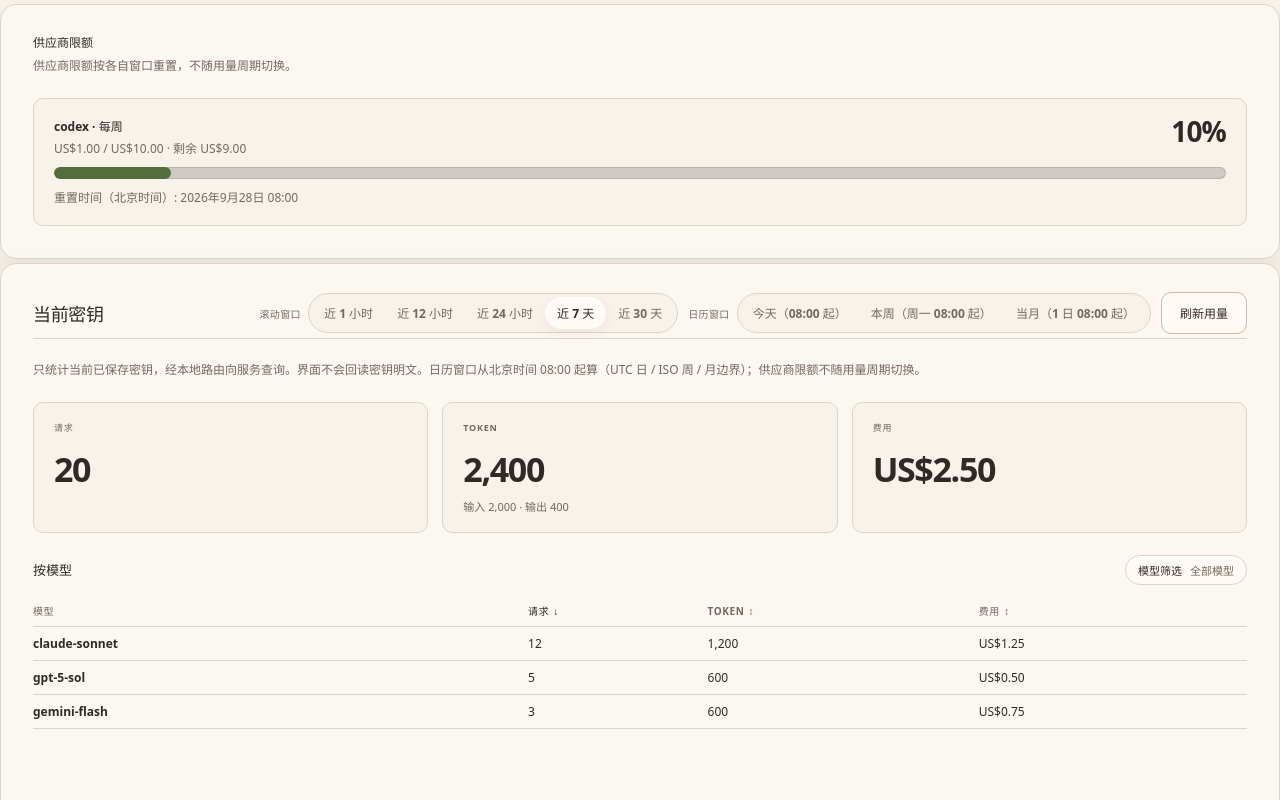
Scenario: UsagePage › hides retained provider limits when a subsequent usage request fails
The width and height of the screenshot is (1280, 800).
Expected: the text "codex · 每周" is shown, [54, 118, 123, 135]
Click the tab "近 1 小时": [349, 313] box [312, 297, 385, 329]
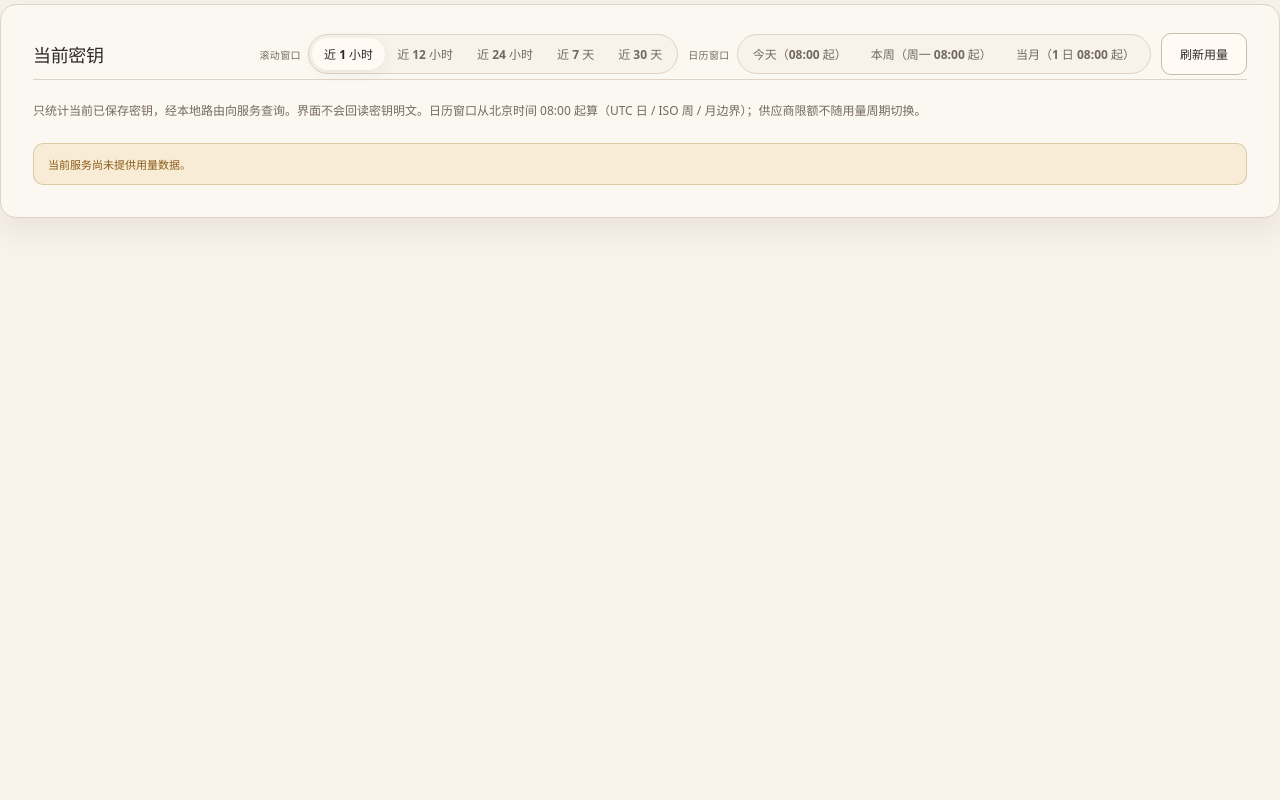
Expected: the text "当前服务尚未提供用量数据。" is shown, [33, 143, 1247, 185]
